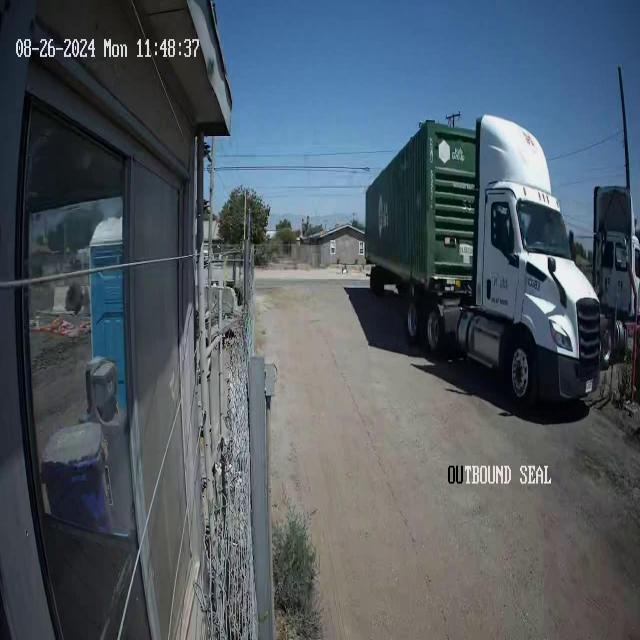CONTAINER: (364, 112, 480, 289)
